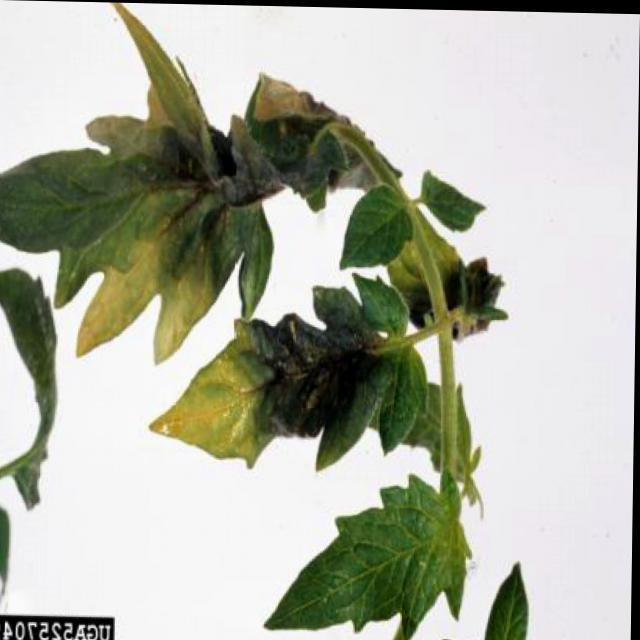Tomato mosaic virus leaf: (0, 115, 275, 364), (145, 277, 426, 483), (252, 451, 500, 639)
